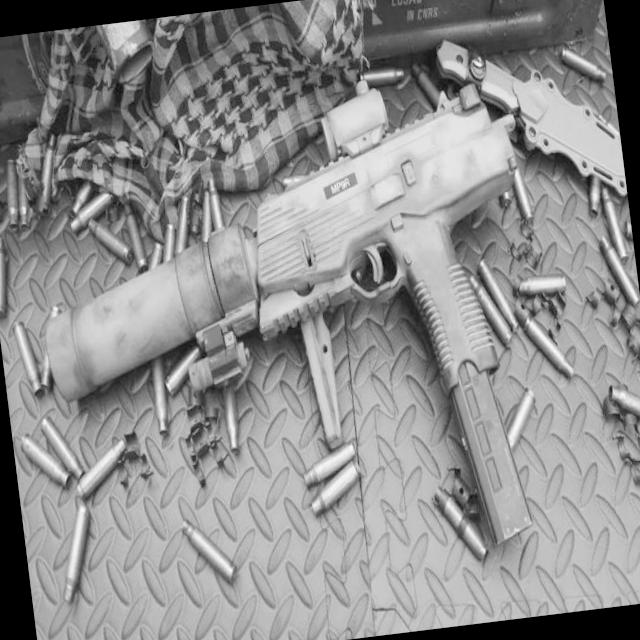gun: (15, 21, 640, 590)
